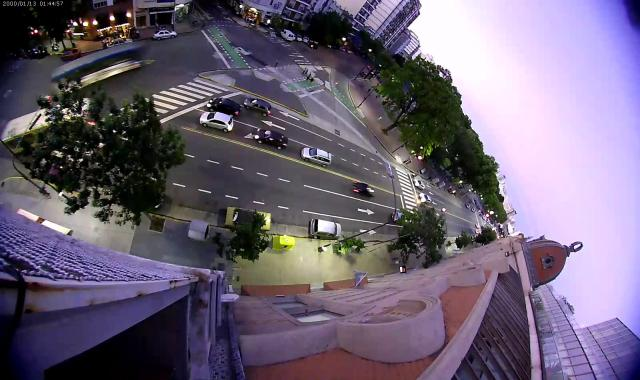bus: (0, 97, 99, 159), (51, 41, 144, 98)
car: (224, 206, 271, 232), (207, 97, 241, 118), (255, 129, 289, 150), (199, 112, 234, 132), (300, 147, 332, 168), (310, 219, 342, 238), (244, 97, 273, 117), (352, 182, 376, 198), (60, 47, 82, 62), (25, 45, 48, 59), (152, 29, 178, 41), (106, 39, 133, 47), (280, 29, 294, 42), (418, 193, 432, 204), (414, 179, 426, 191), (391, 212, 404, 222), (308, 42, 320, 50), (302, 36, 310, 43), (296, 34, 302, 42), (465, 203, 471, 209), (366, 66, 372, 70), (471, 208, 476, 212), (475, 224, 480, 228), (475, 229, 479, 234)
